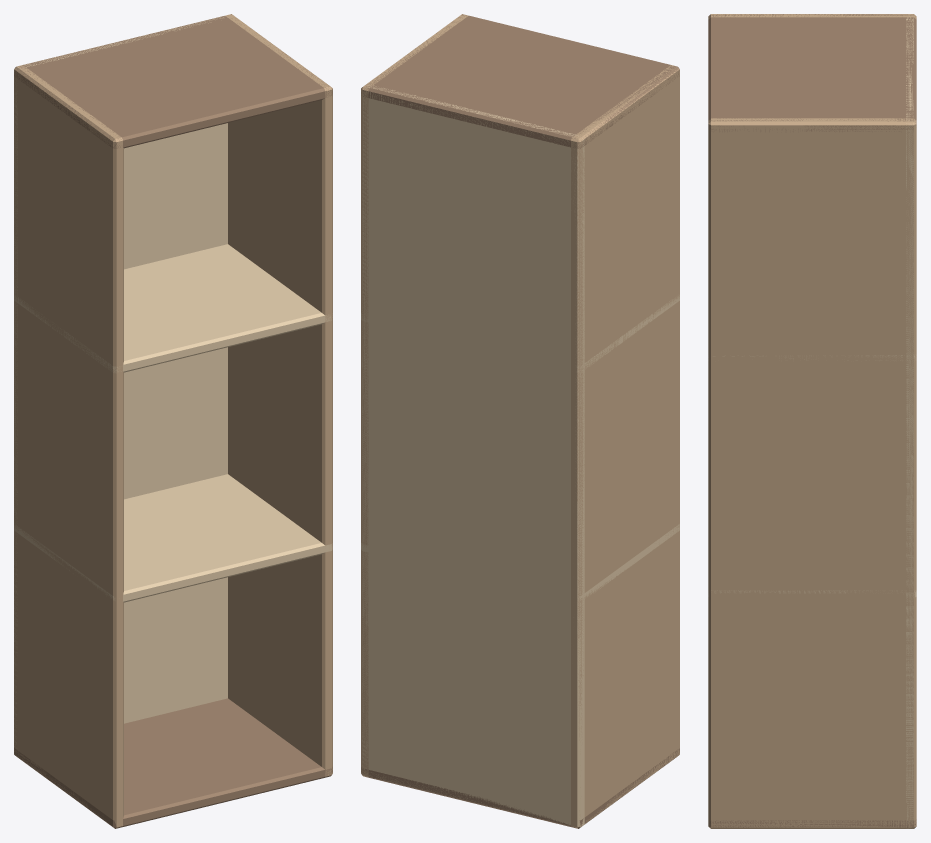
3 renders of one model, left to right at view 1: azimuth 30°, elevation 25°; view 2: azimuth 150°, elevation 25°; view 3: azimuth 270°, elevation 25°, orthographic. The views are drawn at different scales.
Visible parts, largest first — view 1: SpaceSaver_WallSys_Cube_1x3; view 2: SpaceSaver_WallSys_Cube_1x3; view 3: SpaceSaver_WallSys_Cube_1x3.
Part boxes in pixels (box(x1,y1,x2,y2)): SpaceSaver_WallSys_Cube_1x3: box(14, 14, 332, 828); SpaceSaver_WallSys_Cube_1x3: box(361, 14, 679, 828); SpaceSaver_WallSys_Cube_1x3: box(708, 14, 916, 828).
Size of the model in its own units: 0.4 by 1.2 by 0.32.
